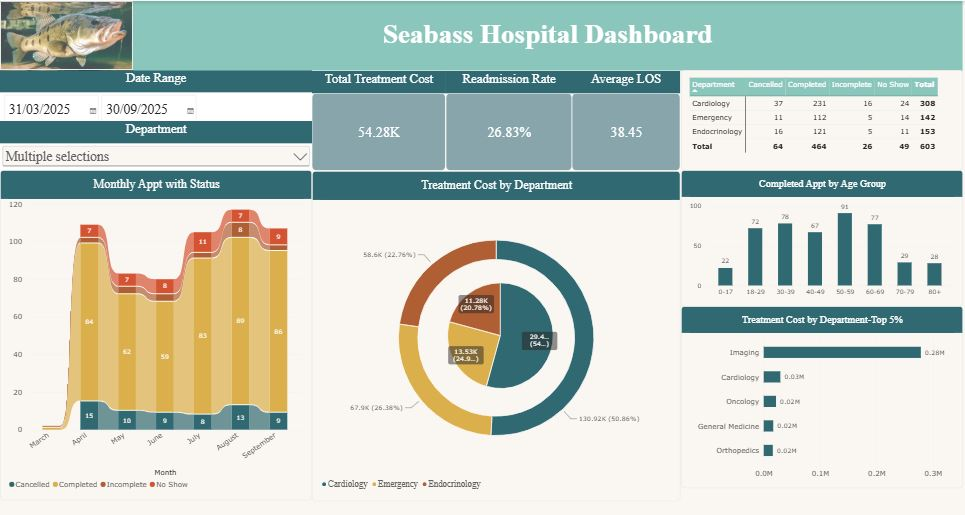

What the dashboard file says about the page in this screenshot:
{"tool":"powerbi","page":{"name":"Page 1","canvas":[1920,1080],"ordinal":0},"visuals":[{"type":"columnChart","title":"Monthly Appt with Status","fields":{"Category":["Appointments.YearMonth_Date.Variation.Date Hierarchy.Month"],"Series":["Appointments.Appointment_Status"],"Y":["CountNonNull(Appointments.Appointment_ID)"]},"box":[0,333,615.4,650.7],"z":0},{"type":"slicer","title":"Date Range","fields":{"Values":["Appointments.Visit_Date"]},"box":[0,136.6,615.4,99.8],"z":1000},{"type":"slicer","title":"Department","fields":{"Values":["Department.Department"]},"box":[0,236.4,615.4,96.7],"z":2000},{"type":"donutChart","title":"Treatment Cost by Department","fields":{"Category":["Department.Department"],"Y":["Sum(TreatmentCost.Treatment Cost)"]},"box":[614.2,334.7,725.9,650.7],"z":3000,"group":"g1"},{"type":"barChart","title":"Treatment Cost by Department-Top 5%","fields":{"Category":["Department.Department"],"Y":["Sum(TreatmentCost.Treatment Cost)"]},"box":[1341.4,601.6,555.6,359.1],"z":3000},{"type":"image","box":[0,0,262.4,136.6],"z":4000},{"type":"pieChart","fields":{"Category":["Department.Department"],"Y":["Sum(TreatmentCost.Treatment Cost)"]},"box":[797,489.9,375.8,339.5],"z":4000,"group":"g1"},{"type":"cardVisual","title":"Readmission Rate","fields":{"Data":["Appointments.Readmission Rate"]},"box":[879.4,138.1,248.6,196.5],"z":5000},{"type":"cardVisual","title":"Total Treatment Cost","fields":{"Data":["Sum(TreatmentCost.Treatment Cost)"]},"box":[615.4,138.1,264,196.5],"z":6000},{"type":"clusteredColumnChart","title":"Completed Appt by Age Group","fields":{"Category":["Appointments.Age_Group"],"Y":["Appointments.Completed Appt"]},"box":[1341.4,333,555.6,268.6],"z":7000},{"type":"group","id":"g1","title":"Group 1","box":[614.2,334.7,725.9,650.7],"z":8000},{"type":"textbox","box":[262.4,0,1634.5,136.6],"z":9000},{"type":"pivotTable","fields":{"Columns":["Appointments.Appointment_Status"],"Rows":["Department.Department"],"Values":["Appointments.DistinctAppointmentsCount"]},"box":[1341.4,136.6,555.6,198],"z":10000},{"type":"cardVisual","title":"Average LOS","fields":{"Data":["Appointments.Average Length of Stay"]},"box":[1128,138,213,196],"z":11000}]}

Visuals, with their boxes on the page's 1920x1080 design canvas (x1, y1, x2, y2). These are canvas units, not pixel positions in the 965x515 screenshot, which may show the page scaled, cropped or inside an application window:
"Monthly Appt with Status" columnChart: l=0, t=333, r=615, b=984
"Date Range" slicer: l=0, t=137, r=615, b=236
"Department" slicer: l=0, t=236, r=615, b=333
"Treatment Cost by Department" donutChart: l=614, t=335, r=1340, b=985
"Treatment Cost by Department-Top 5%" barChart: l=1341, t=602, r=1897, b=961
image: l=0, t=0, r=262, b=137
pieChart - Department.Department x Sum(TreatmentCost.Treatment Cost): l=797, t=490, r=1173, b=829
"Readmission Rate" cardVisual: l=879, t=138, r=1128, b=335
"Total Treatment Cost" cardVisual: l=615, t=138, r=879, b=335
"Completed Appt by Age Group" clusteredColumnChart: l=1341, t=333, r=1897, b=602
"Group 1" group: l=614, t=335, r=1340, b=985
textbox: l=262, t=0, r=1897, b=137
pivotTable - Appointments.Appointment_Status x Department.Department: l=1341, t=137, r=1897, b=335
"Average LOS" cardVisual: l=1128, t=138, r=1341, b=334
